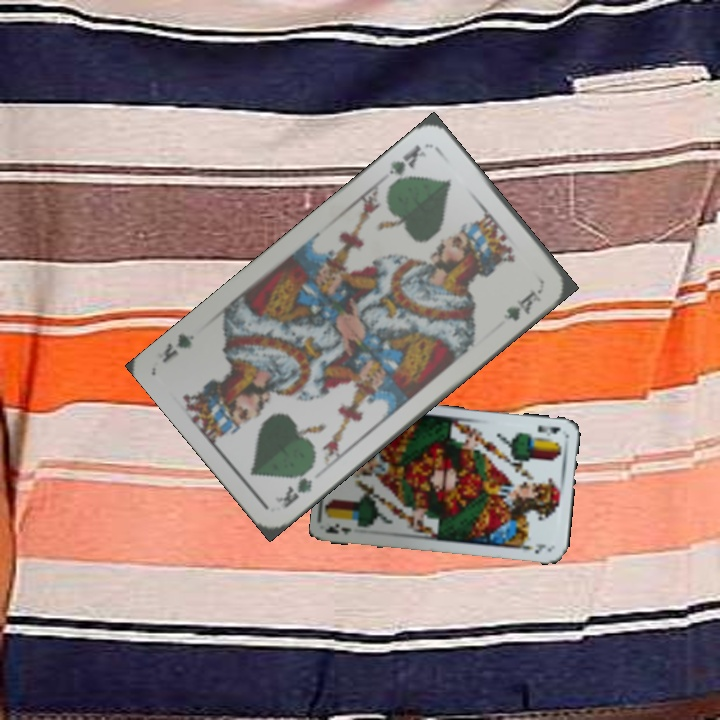EK: (324, 519, 354, 537), (534, 421, 562, 437)
GK: (384, 140, 430, 189), (271, 462, 316, 511)
